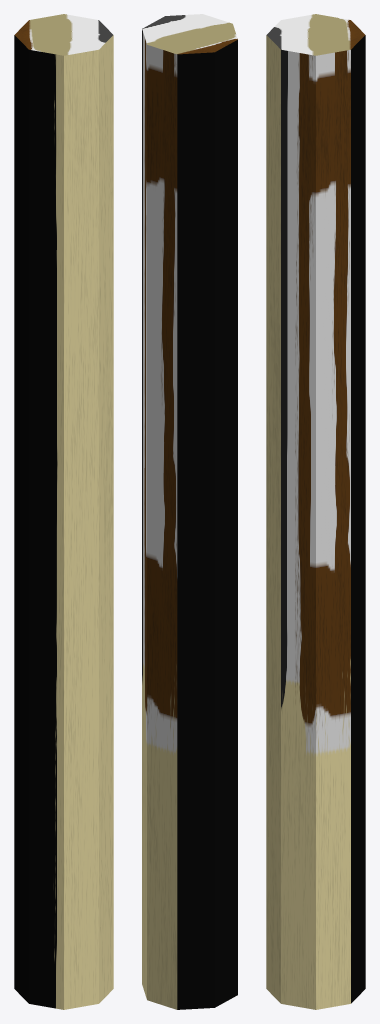
File: SM_BuildingPole_1.fbx
3 renders of one model, left to right at view 1: azimuth 90°, elevation 25°; view 2: azimuth 210°, elevation 25°; view 3: azimuth 270°, elevation 25°, orthographic.
Parts seen in each view (by area): view 1: pCylinder7; view 2: pCylinder7; view 3: pCylinder7.
Part boxes in pixels (box(x1,y1,x2,y2)): pCylinder7: box(14, 14, 113, 1009); pCylinder7: box(142, 14, 237, 1009); pCylinder7: box(266, 14, 365, 1009).
Bounding box in the file's own units: 57.82 × 615 × 57.82.
